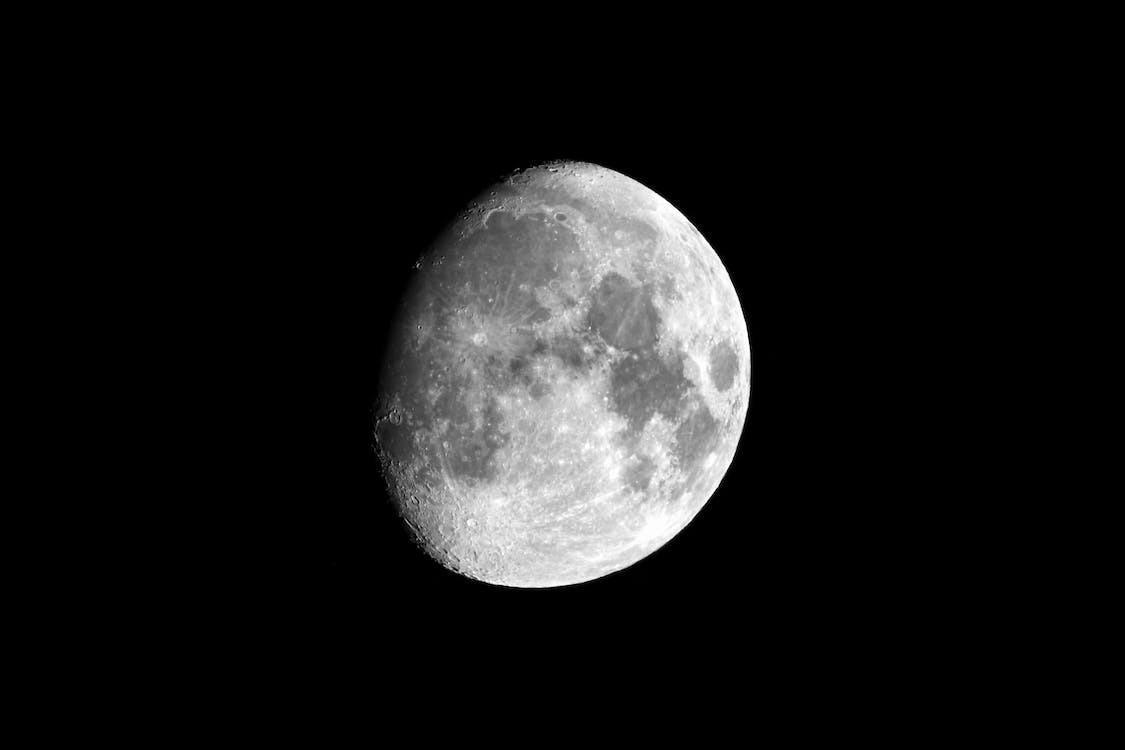moon: (345, 132, 766, 612)
